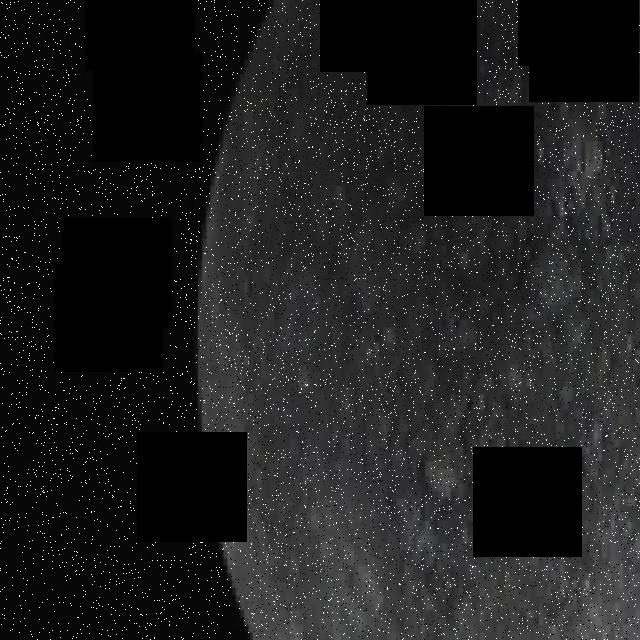Mercury: (193, 0, 640, 640)
